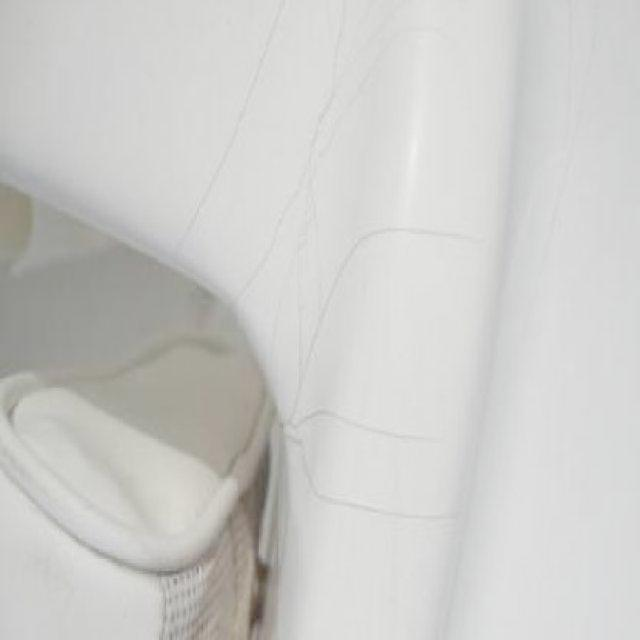crack: (296, 476, 449, 538), (310, 396, 441, 455), (248, 421, 279, 640), (360, 209, 491, 258)
